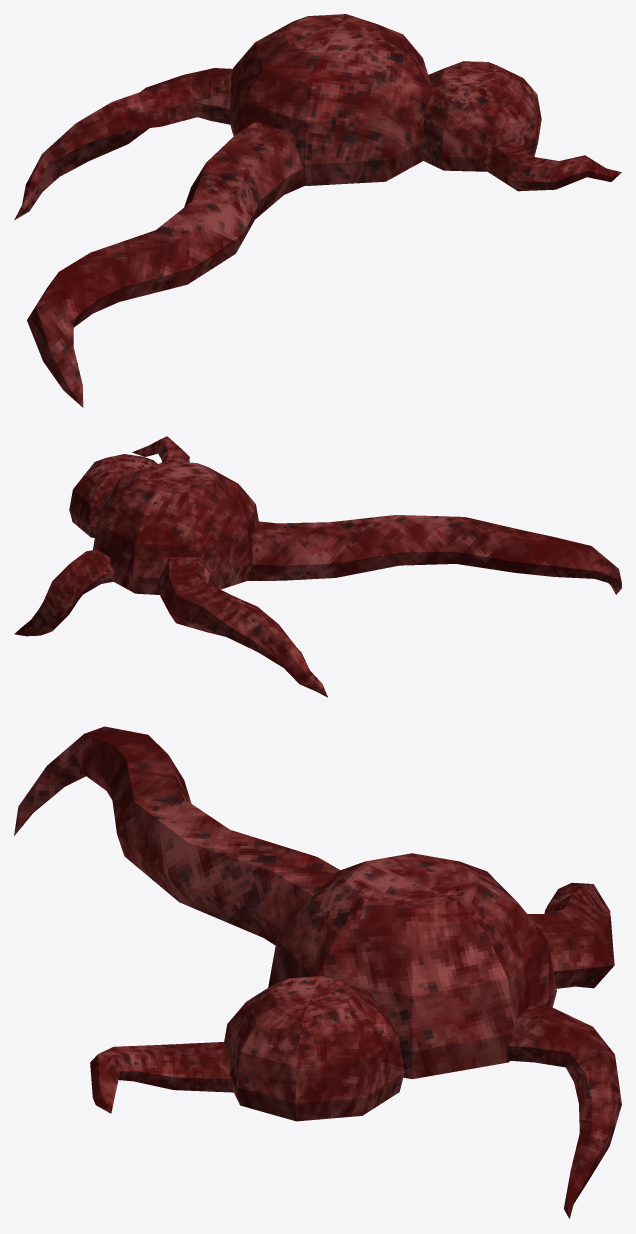
Rendered from pustule_grp_5.fbx.
The picture shows the model from 3 angles, top to bottom: view 1: azimuth 30°, elevation 25°; view 2: azimuth 150°, elevation 25°; view 3: azimuth 270°, elevation 25°; orthographic projection. The views are drawn at different scales.
Visible parts, largest first — view 1: bubble_1, tendril_1, bubble_2, tendril_3, tendril_2; view 2: tendril_1, bubble_1, tendril_3, tendril_4, bubble_2, tendril_2; view 3: bubble_1, tendril_1, bubble_2, tendril_4, tendril_2, tendril_3.
Part boxes in pixels (x1,y1,x2,y2): bubble_1: (228,14,432,185); tendril_1: (27,121,304,407); bubble_2: (422,61,541,171); tendril_3: (14,68,232,220); tendril_2: (484,139,621,191); tendril_1: (248,515,621,594); bubble_1: (93,461,258,594); tendril_3: (159,557,327,697); tendril_4: (14,549,114,636); bubble_2: (69,454,157,537); tendril_2: (132,436,189,462); bubble_1: (268,853,556,1079); tendril_1: (14,726,339,945); bubble_2: (224,975,404,1121); tendril_4: (507,1005,621,1218); tendril_2: (90,1042,233,1113); tendril_3: (527,882,614,988).
Size of the model in its own units: 4.94 by 1.5 by 3.35.
